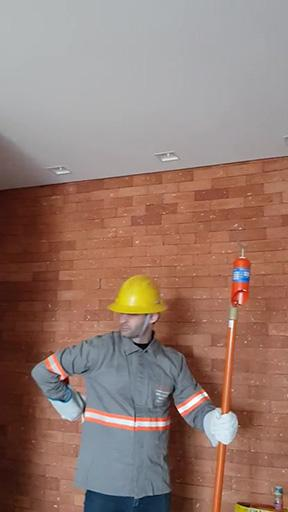Detector_Tensao_Contato: (230, 241, 251, 311)
Vara_Manobra: (210, 307, 241, 512)
